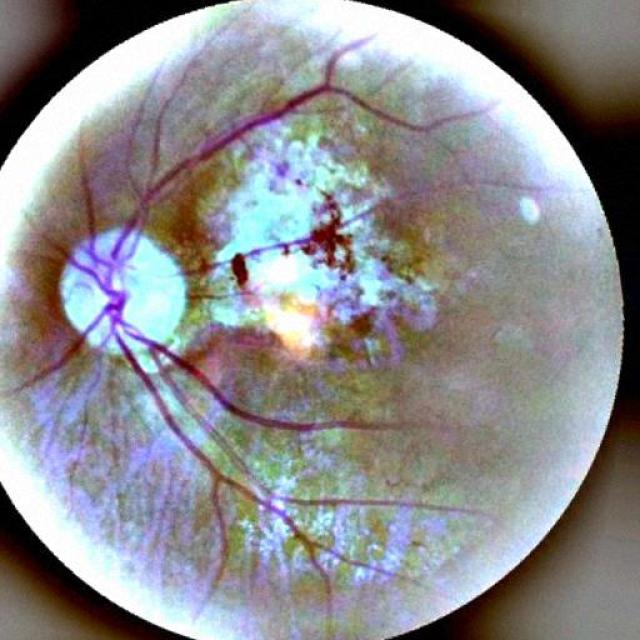Nerves: (68, 216, 328, 545), (140, 38, 456, 205), (246, 235, 309, 255)
Optic Disk: (60, 228, 186, 372)
